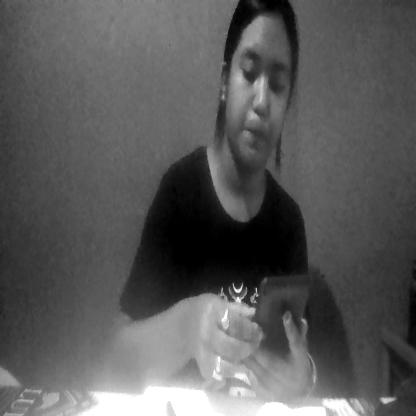Normal: (217, 5, 314, 201)
